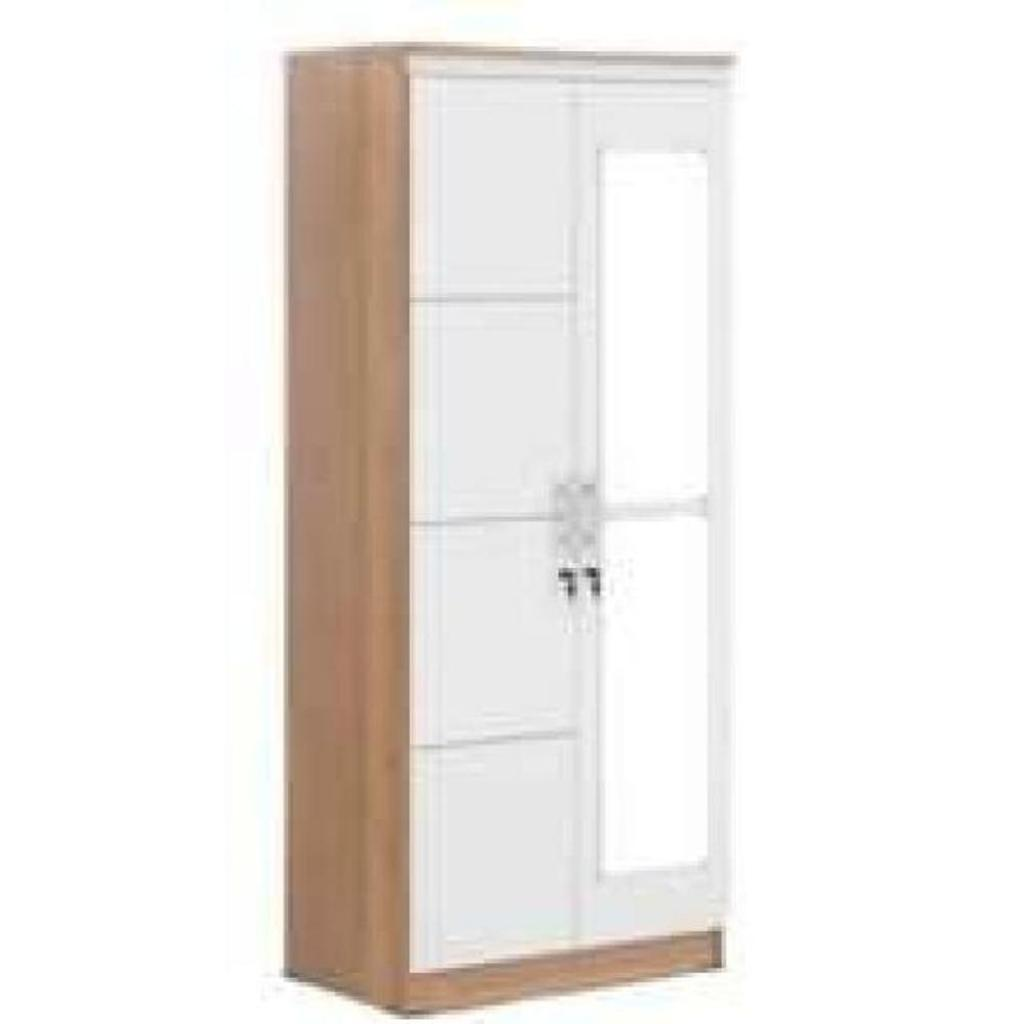cabinet: (280, 35, 733, 1024)
